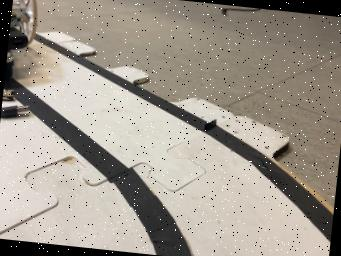street: (0, 36, 333, 256), (0, 36, 333, 256), (0, 36, 333, 256), (0, 36, 333, 256), (0, 36, 333, 256), (0, 36, 333, 256)
